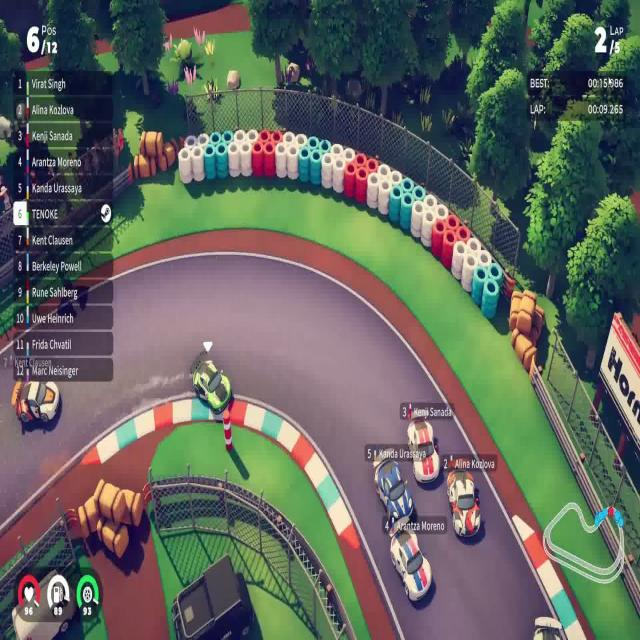car: (388, 524, 432, 603), (372, 454, 413, 528), (446, 468, 482, 539), (192, 358, 232, 416), (406, 417, 440, 485), (13, 378, 60, 426)
